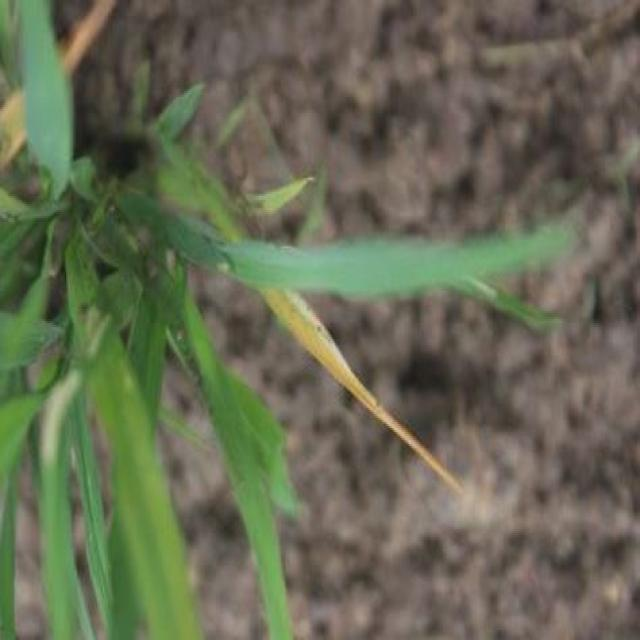Rice Tungro: (294, 321, 479, 516)
